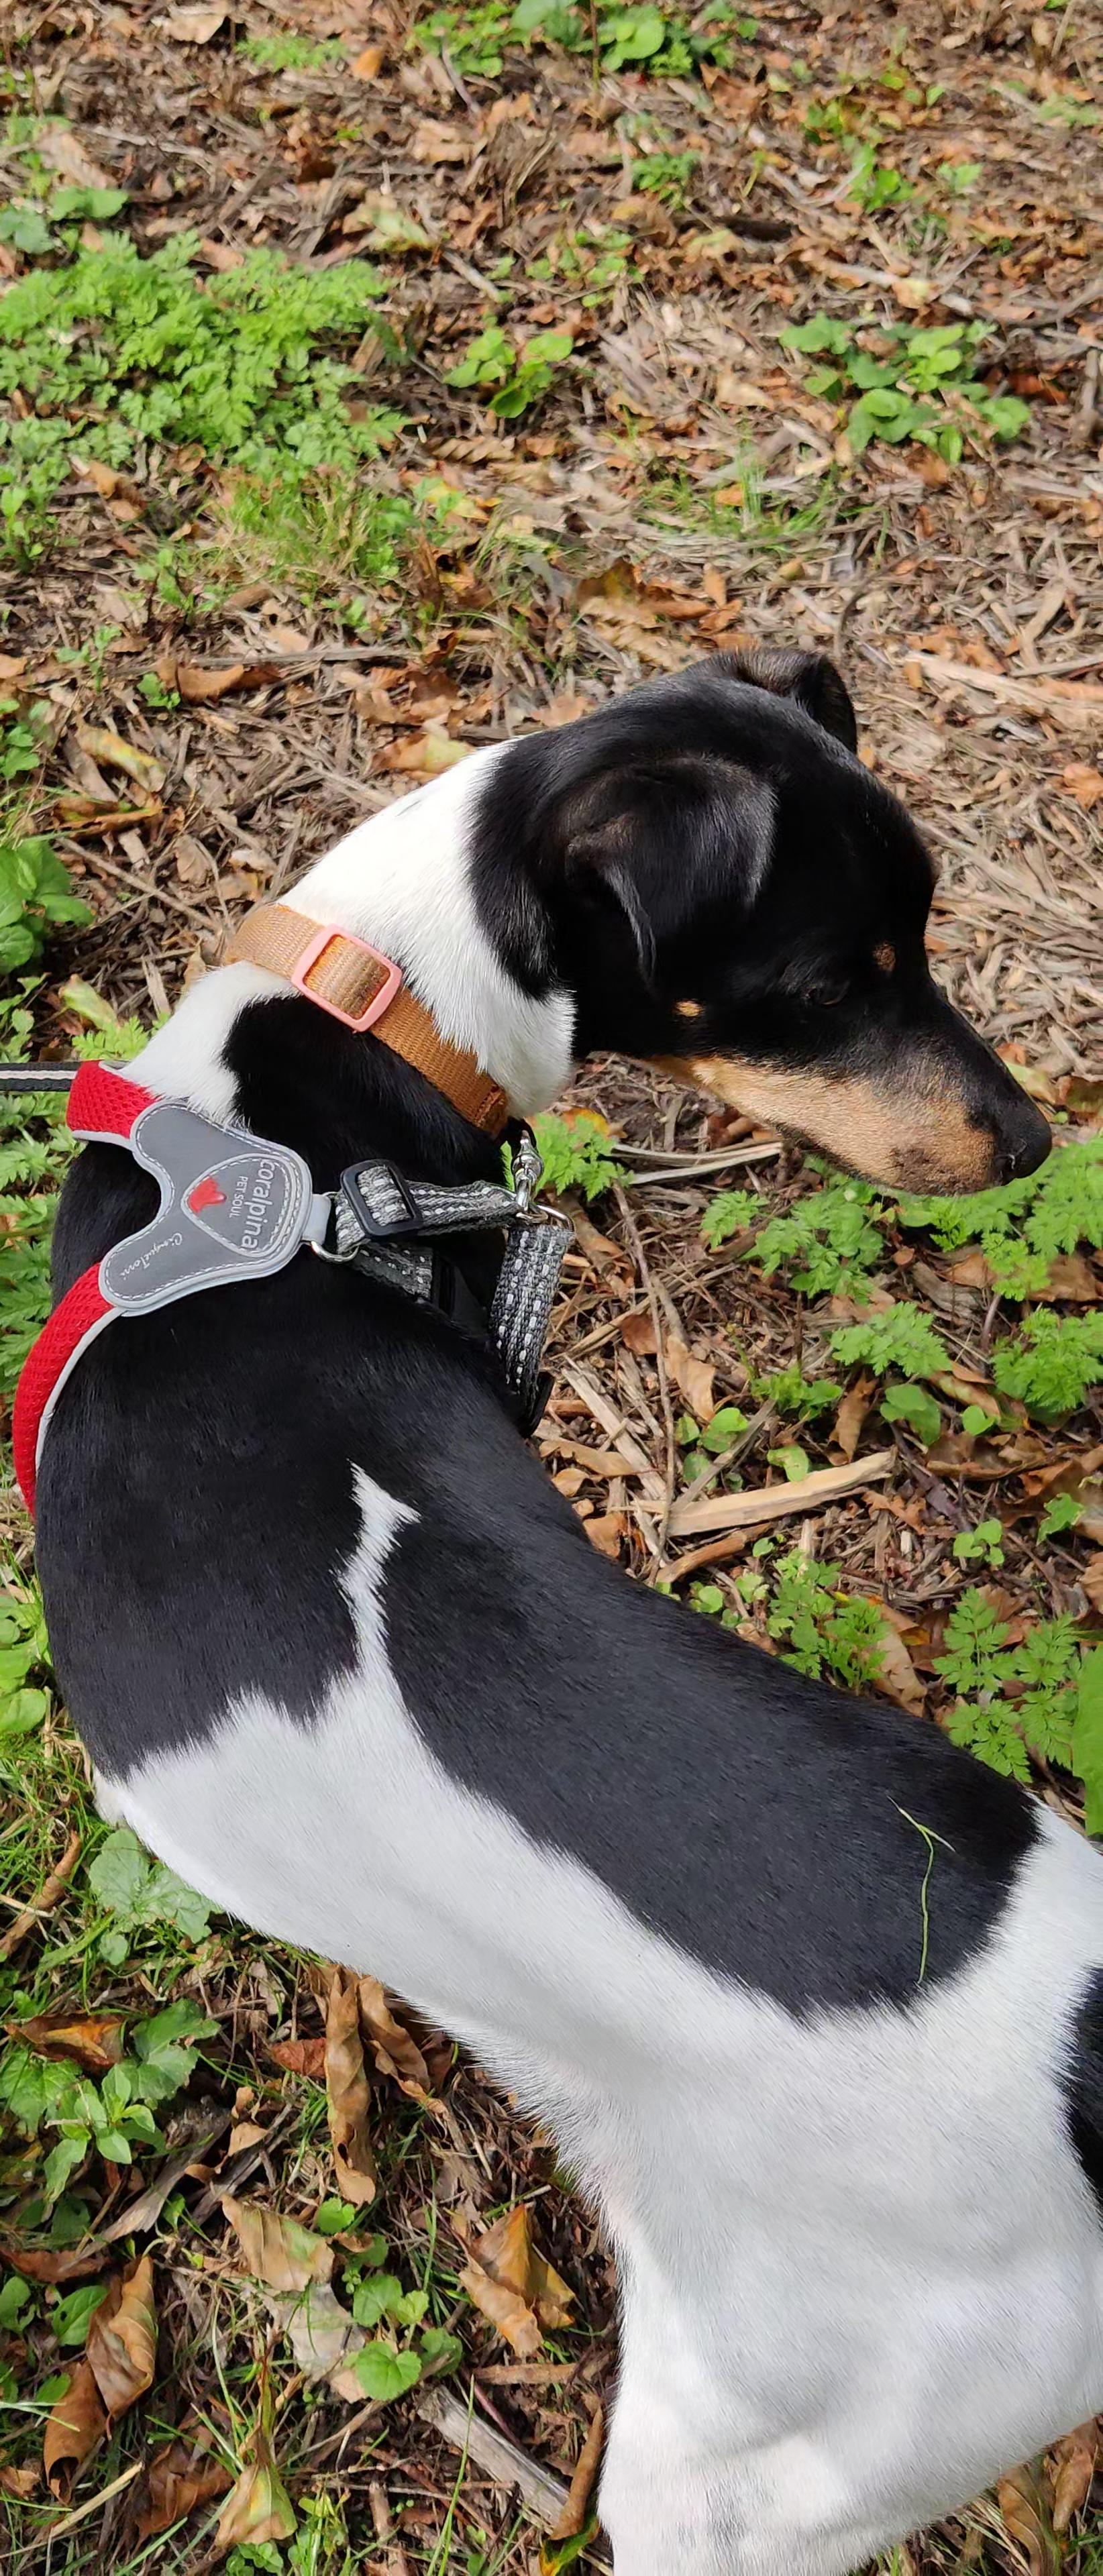Dog: (12, 621, 1103, 2576)
